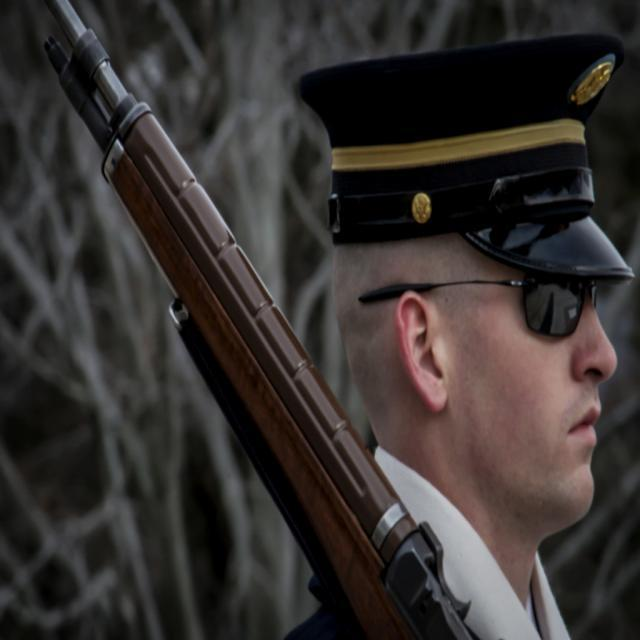weapon: (80, 12, 480, 608)
